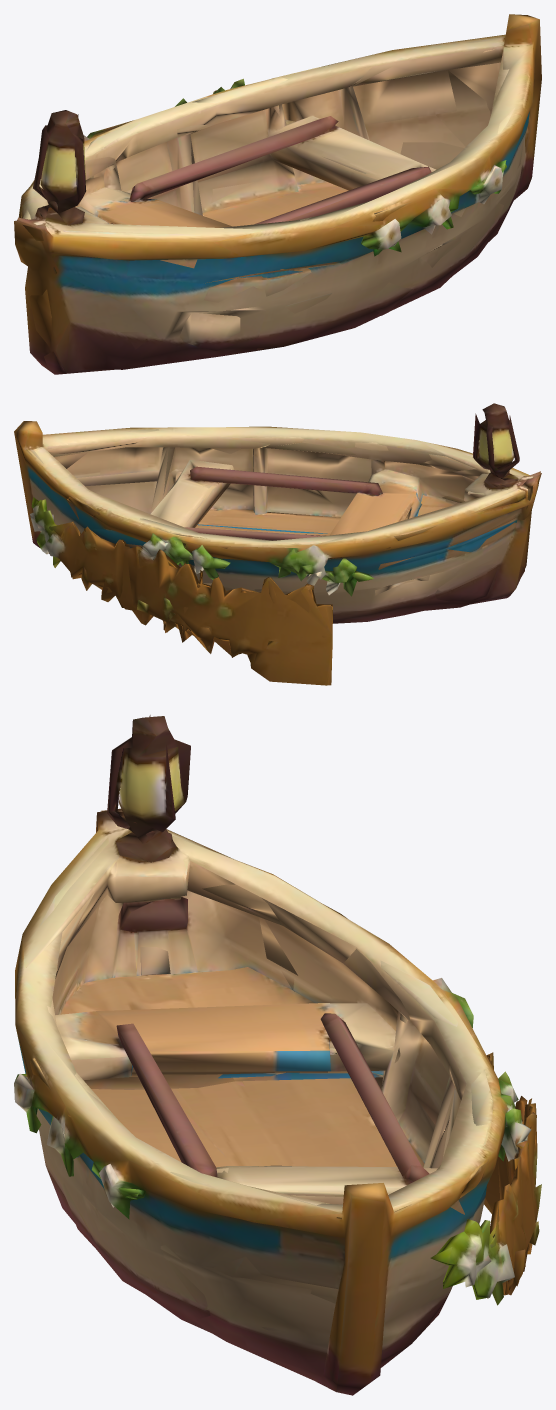
Rendered from offering-boat.glb.
The picture shows the model from 3 angles, top to bottom: view 1: azimuth 30°, elevation 25°; view 2: azimuth 150°, elevation 25°; view 3: azimuth 270°, elevation 25°; orthographic projection. The views are drawn at different scales.
Size of the model in its own units: 2.4 by 1.17 by 1.39.
1 material, 1 textured.
